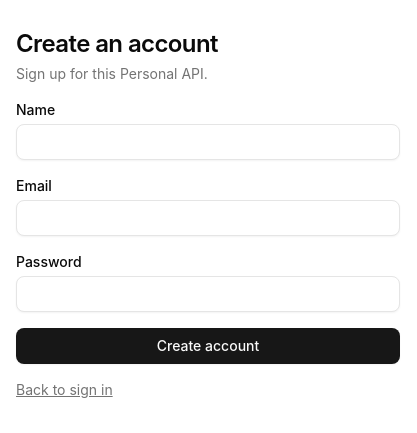
it: signup › shows an error and stays put when the server refuses signup with auth.signup_disabled
Type "Eve" into the field labelled "Name" at (208, 142), box [16, 124, 400, 160]
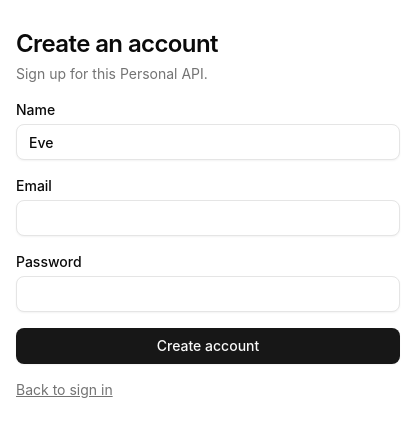
Type "eve@example.test" into the field labelled "Email" at (208, 218), box [16, 200, 400, 236]
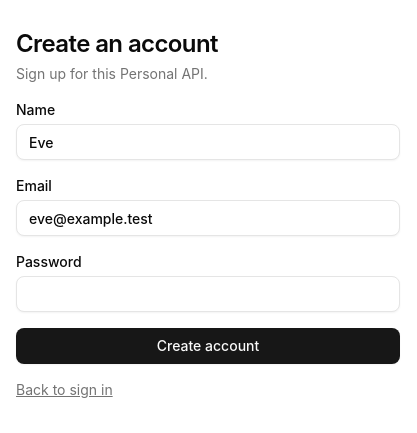
Type "correct-horse-battery" into the password field labelled "Password" at (208, 294), box [16, 276, 400, 312]
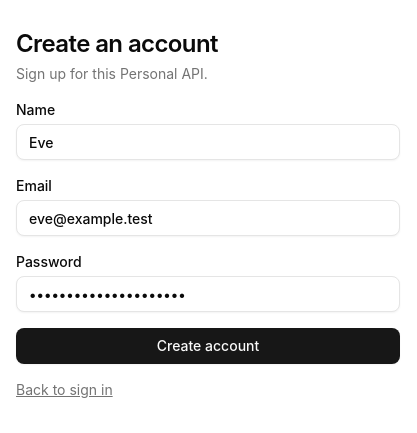
Click the button "Create account" at (208, 346), box [16, 328, 400, 364]
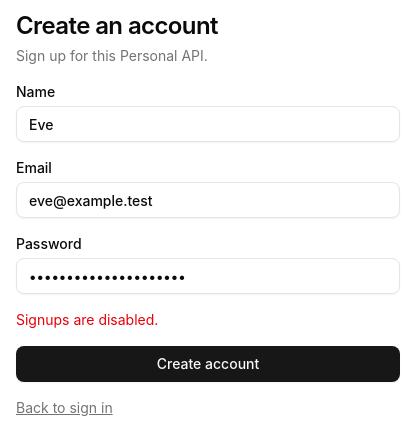
expect the message "Signups are disabled." is shown: met, box [16, 311, 158, 328]
